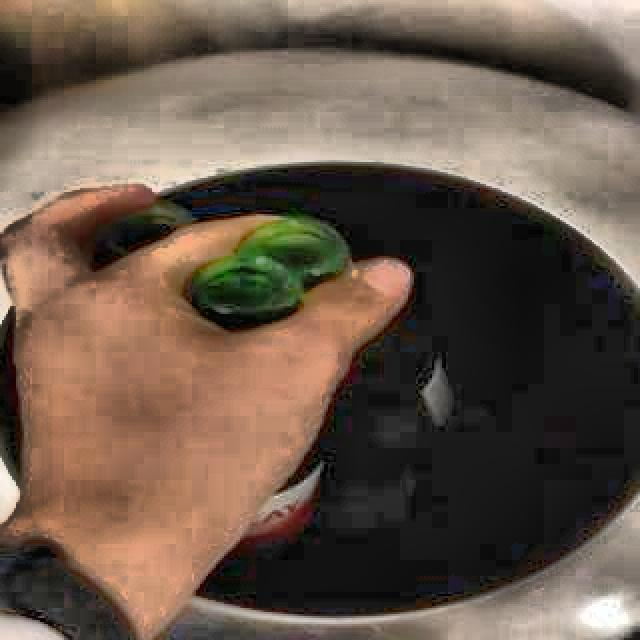glass: (181, 219, 352, 332), (323, 332, 432, 447), (83, 201, 197, 269), (248, 462, 323, 536)
